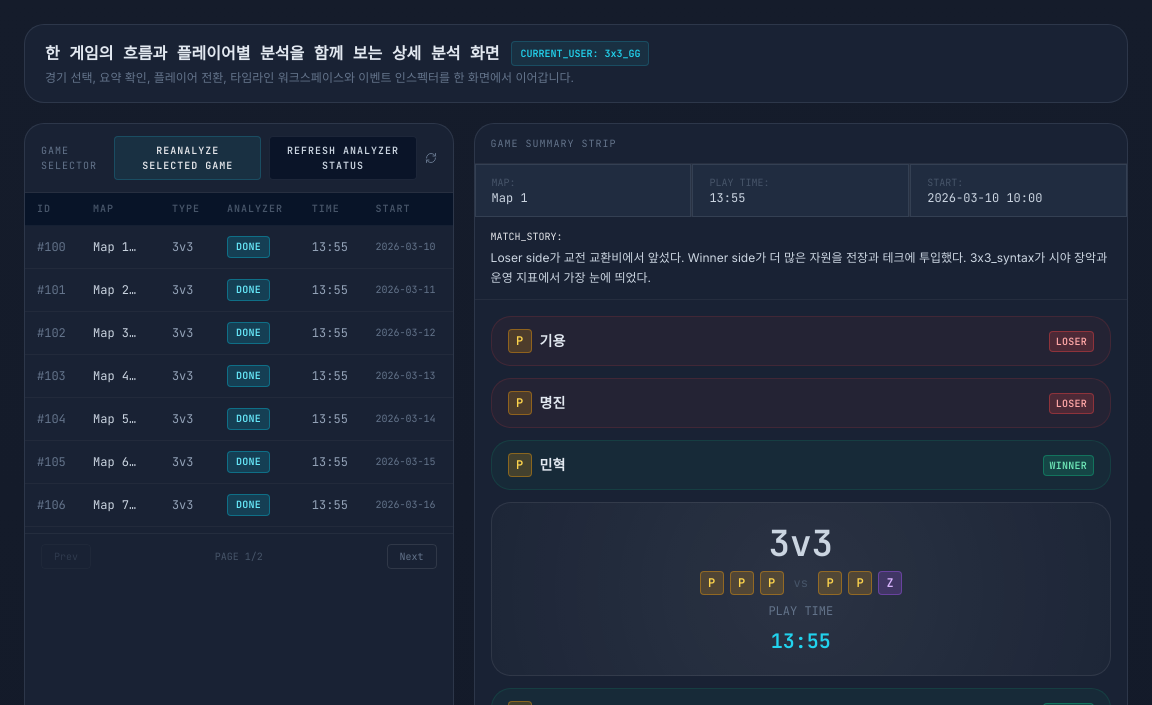
Test: analyzer page › uses the legacy selector page size of 10 games
Expected: the text "#100" is shown, [25,226,81,268]
Expected: the text "#110" is not shown
Click the button "Next".
click(412, 556)  # box [387,544,437,569]
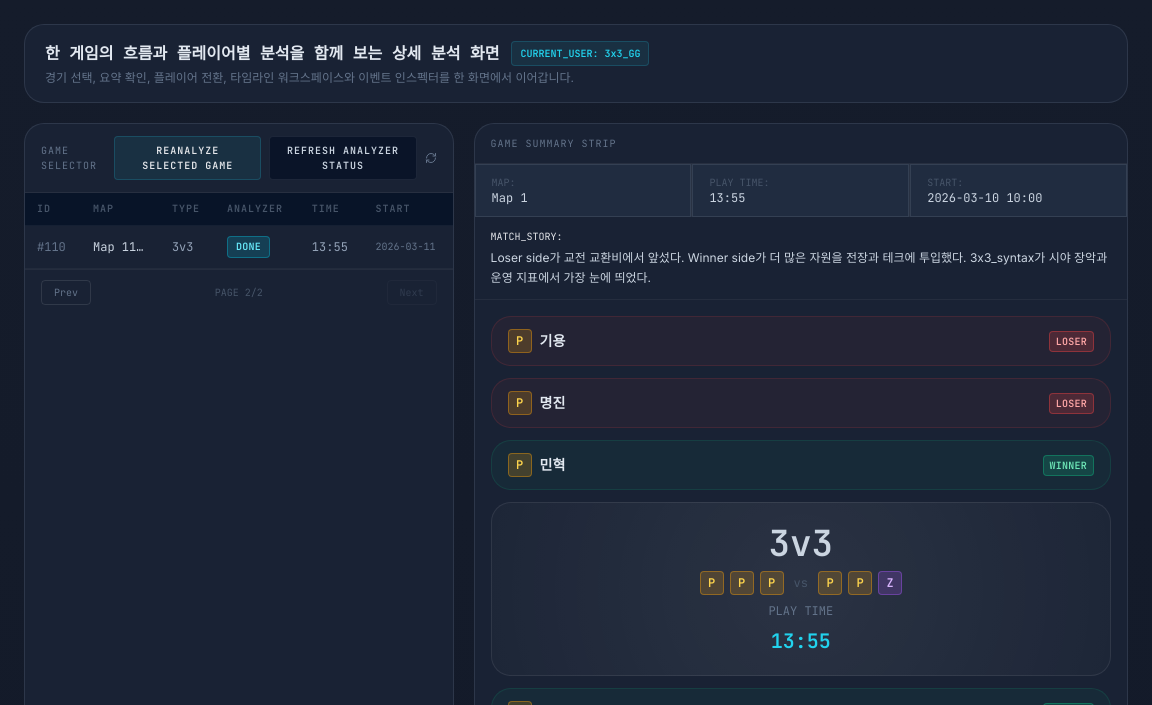
Result: the text "#110" is shown at [25,226,81,268]
